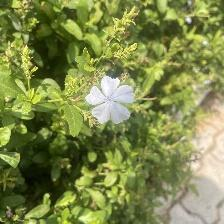chitrak: (84, 76, 137, 128)
